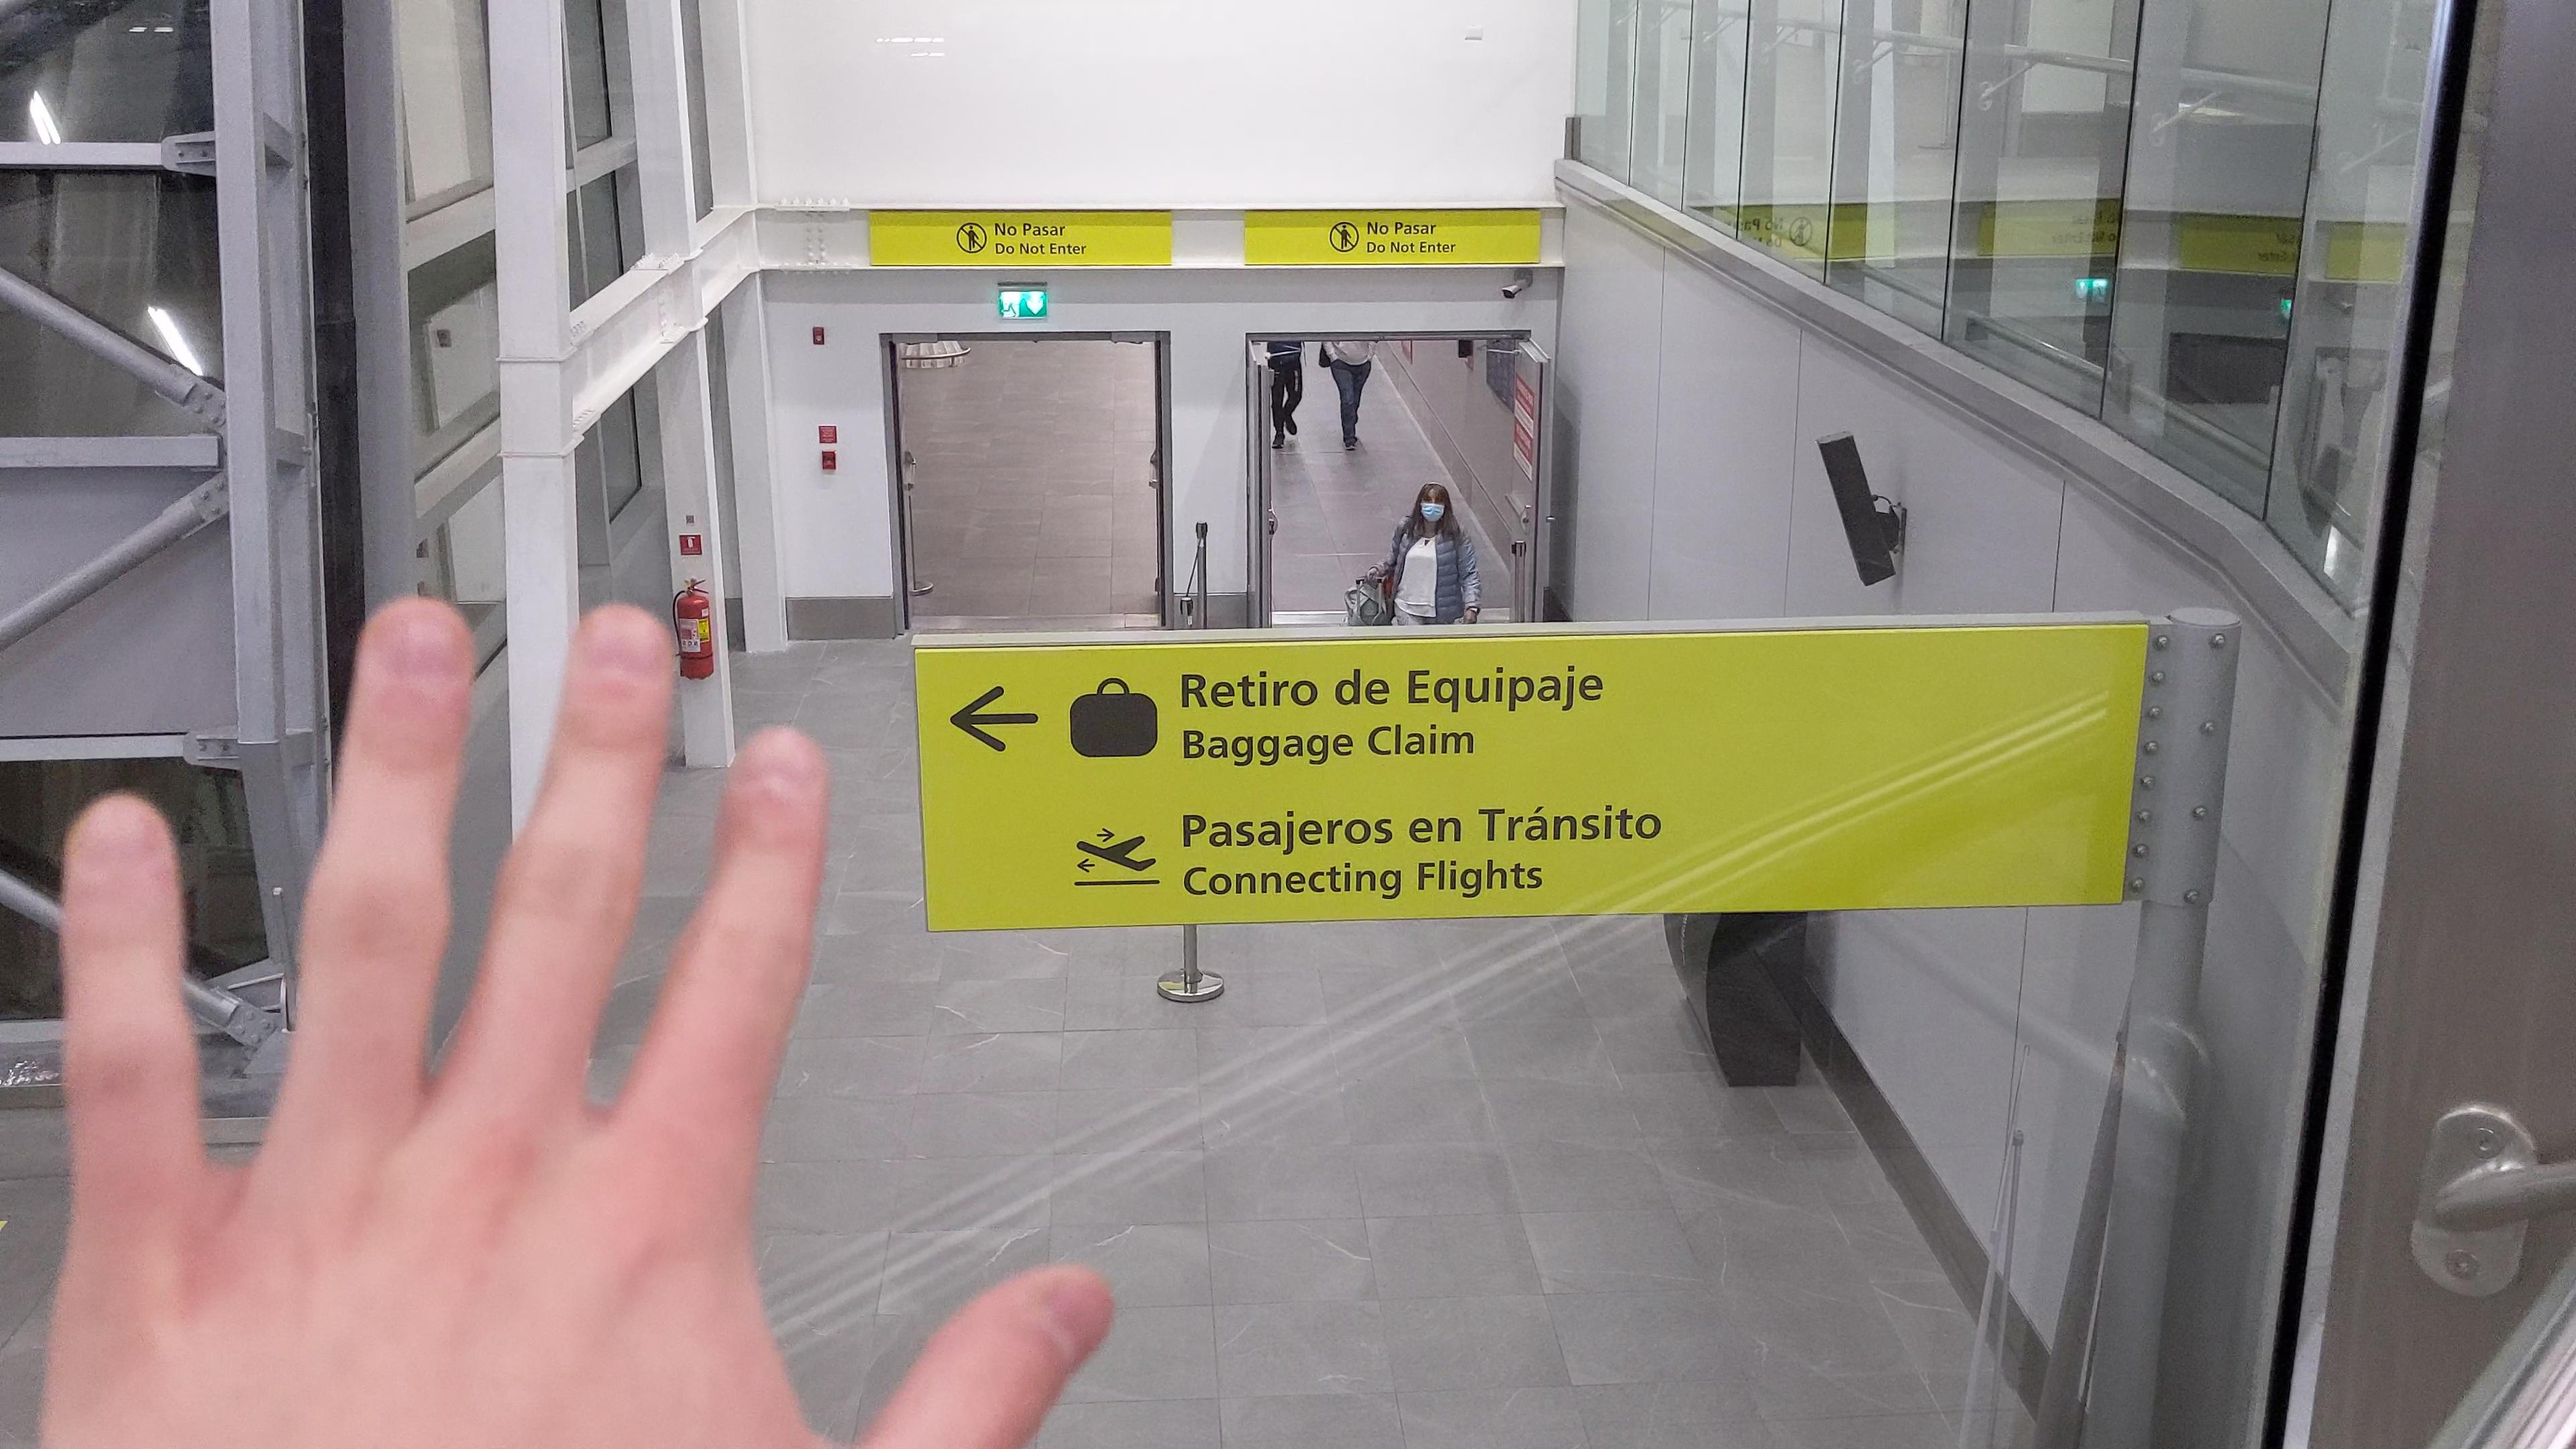airplane symbol: (1074, 828, 1161, 876)
baggage claim: (1067, 672, 1164, 764)
emergency down arrow: (1024, 290, 1047, 317)
emergency exit: (1000, 290, 1021, 318)
extinguisher symbol: (685, 534, 695, 548)
fire-extinguisher: (669, 575, 718, 679)
thin left arrow: (941, 681, 1047, 755)
